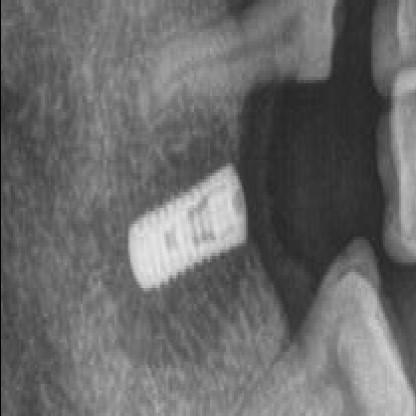ITI: (118, 135, 256, 315)
